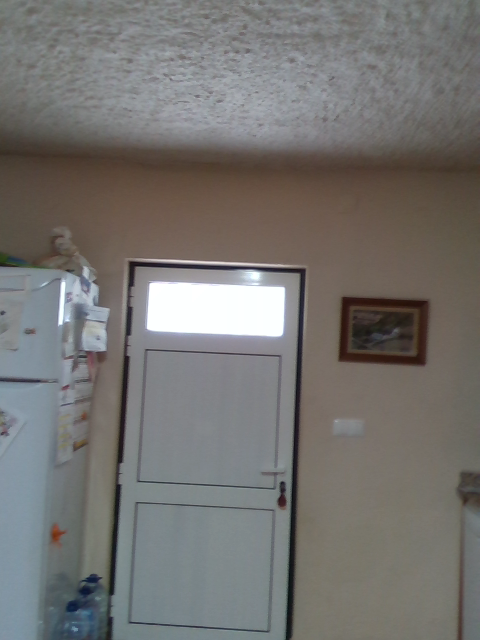closed: (101, 261, 304, 638)
